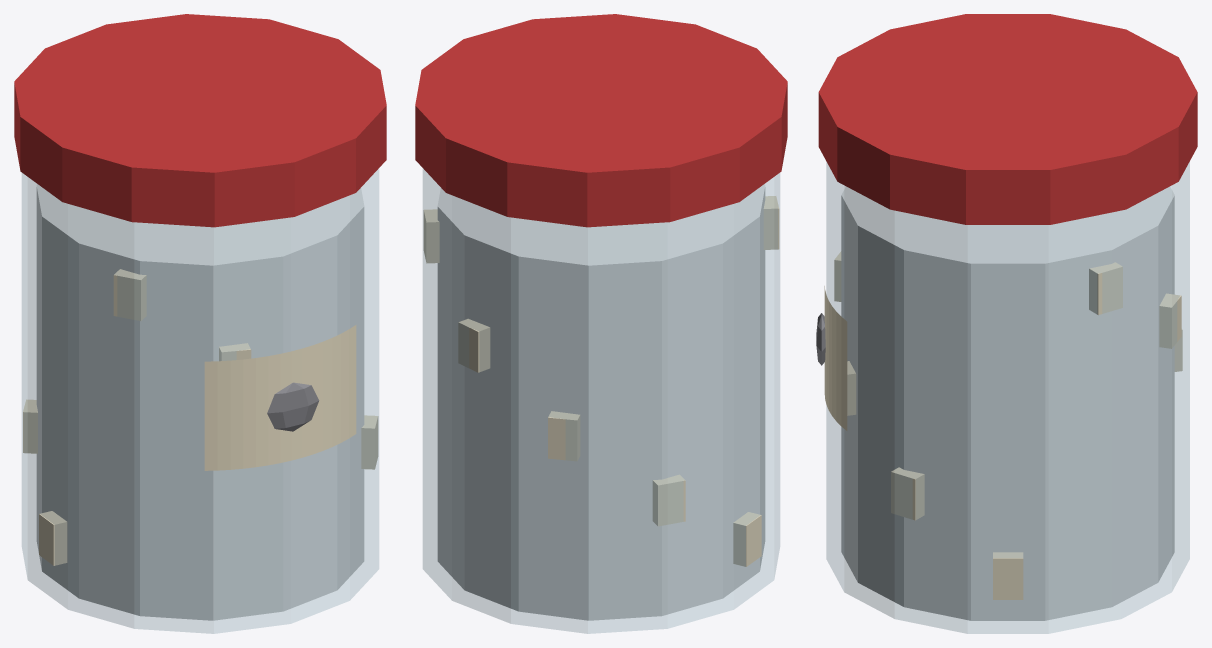
File: teeth_jar.glb
3 renders of one model, left to right at view 1: azimuth 30°, elevation 25°; view 2: azimuth 150°, elevation 25°; view 3: azimuth 270°, elevation 25°, orthographic.
Parts seen in each view (by area): view 1: jar_dental_glass, teeth_dental_white, lid_lid_red, label_label_cream, teeth_tooth_cream (×4), label_label_mouse; view 2: jar_dental_glass, teeth_dental_white, lid_lid_red, teeth_tooth_cream (×6); view 3: jar_dental_glass, teeth_dental_white, lid_lid_red, teeth_tooth_cream (×4), label_label_cream.
Part boxes in pixels (box(x1,y1,x2,y2)): jar_dental_glass: box(22, 169, 378, 633); teeth_dental_white: box(36, 184, 364, 620); lid_lid_red: box(14, 14, 386, 227); label_label_cream: box(204, 325, 356, 470); teeth_tooth_cream (×4): box(23, 269, 378, 565); label_label_mouse: box(267, 382, 319, 431); jar_dental_glass: box(423, 169, 779, 633); teeth_dental_white: box(437, 184, 765, 620); lid_lid_red: box(415, 14, 787, 227); teeth_tooth_cream (×6): box(423, 196, 779, 566); jar_dental_glass: box(826, 162, 1189, 633); teeth_dental_white: box(841, 186, 1174, 620); lid_lid_red: box(818, 14, 1197, 224); teeth_tooth_cream (×4): box(891, 262, 1181, 599); label_label_cream: box(824, 286, 847, 430).
Bounding box in the file's own units: 0.2437 × 0.34 × 0.2515.
